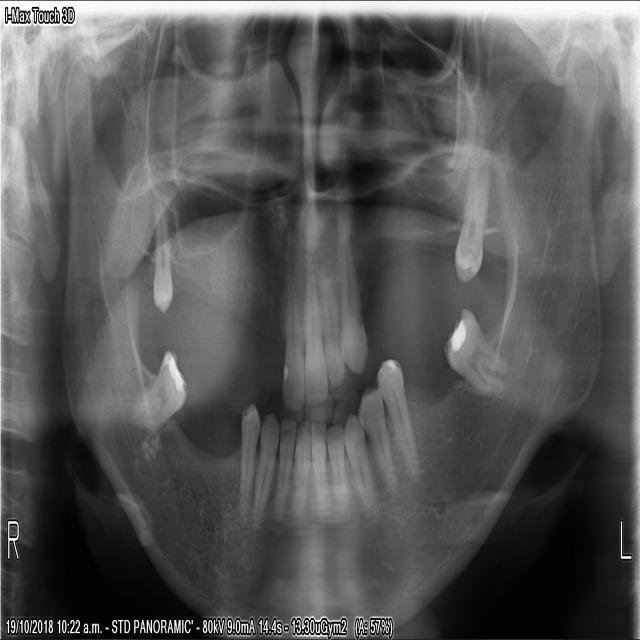LCD: (345, 405, 374, 508)
LID: (357, 383, 402, 496), (324, 417, 353, 513), (309, 417, 327, 508)
LIU: (335, 236, 368, 374), (317, 260, 346, 389)
LMD: (435, 302, 505, 394)
LMU: (448, 160, 492, 280)
LPMD: (374, 354, 421, 482)
RCD: (250, 404, 278, 533)
RID: (270, 414, 296, 524), (291, 416, 310, 517)
RIU: (280, 259, 304, 413), (302, 266, 327, 409)
RMD: (129, 341, 191, 440)
RMU: (147, 189, 174, 319)
RPMD: (238, 396, 261, 510)
